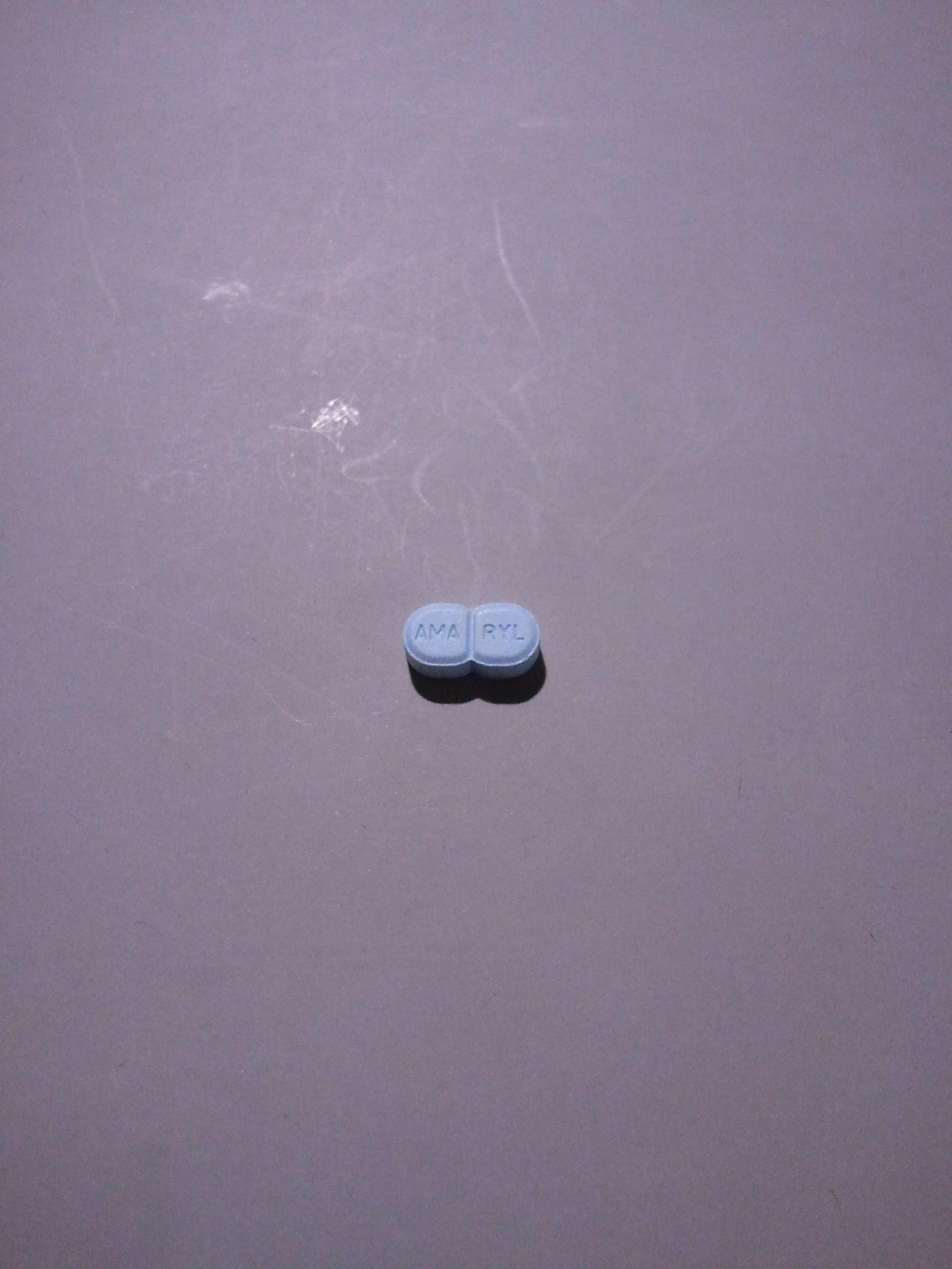Pill: (379, 582, 564, 711)
